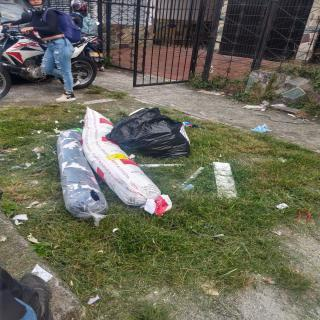Garbage: (109, 105, 198, 159)
